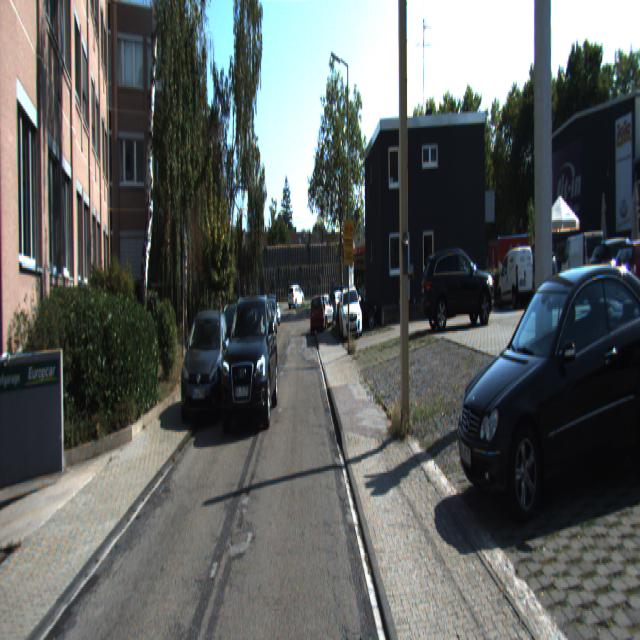Car: (444, 220, 640, 521), (216, 292, 278, 437), (420, 246, 496, 340), (179, 300, 232, 425), (210, 305, 251, 393), (559, 227, 605, 304), (518, 246, 560, 305), (498, 248, 536, 312), (610, 241, 640, 320), (339, 284, 362, 339), (308, 294, 326, 336), (287, 282, 305, 310)
